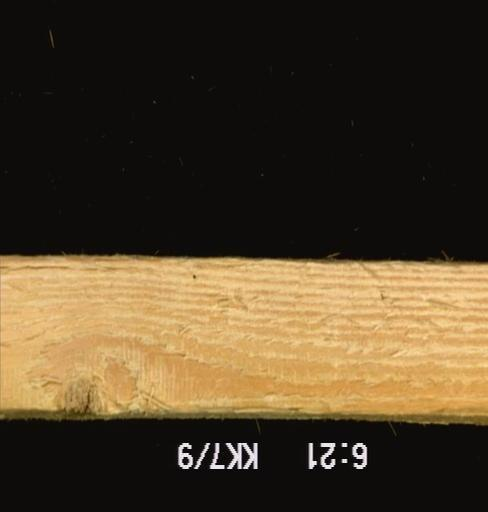edge_knot: (20, 363, 113, 416)
split: (196, 400, 304, 413)
